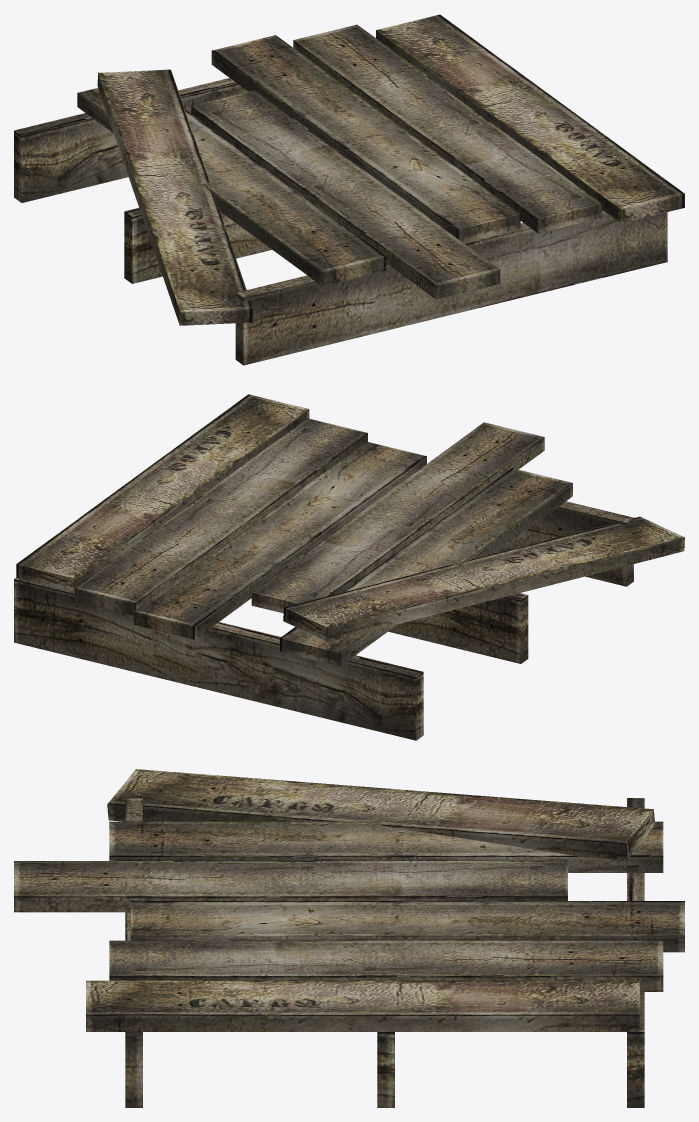
The model's file is CargoWood02.fbx.
The picture shows the model from 3 angles, top to bottom: view 1: azimuth 30°, elevation 25°; view 2: azimuth 150°, elevation 25°; view 3: azimuth 270°, elevation 25°; orthographic projection. The views are drawn at different scales.
Visible parts, largest first — view 1: CargoWood02; view 2: CargoWood02; view 3: CargoWood02.
Boxes of the visible parts, x1,y1,x2,y2 form: CargoWood02: [14, 14, 684, 365]; CargoWood02: [14, 394, 684, 740]; CargoWood02: [14, 769, 684, 1107].
Size of the model in its own units: 59.95 by 11.89 by 63.84.
